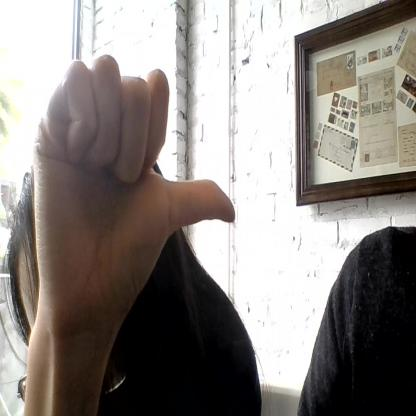left: (33, 53, 236, 305)
